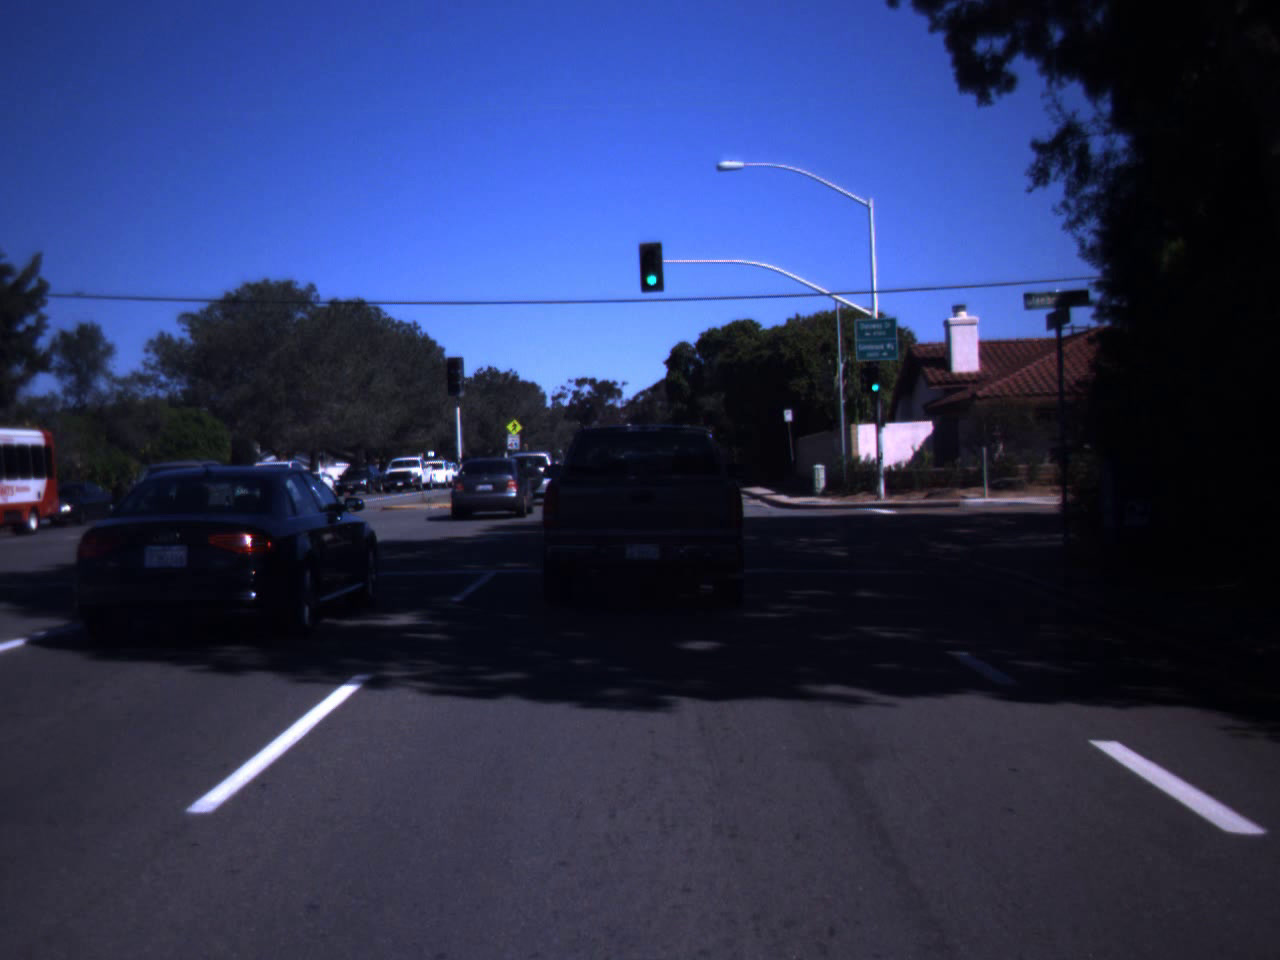go: (640, 248, 664, 288), (866, 367, 884, 392)
